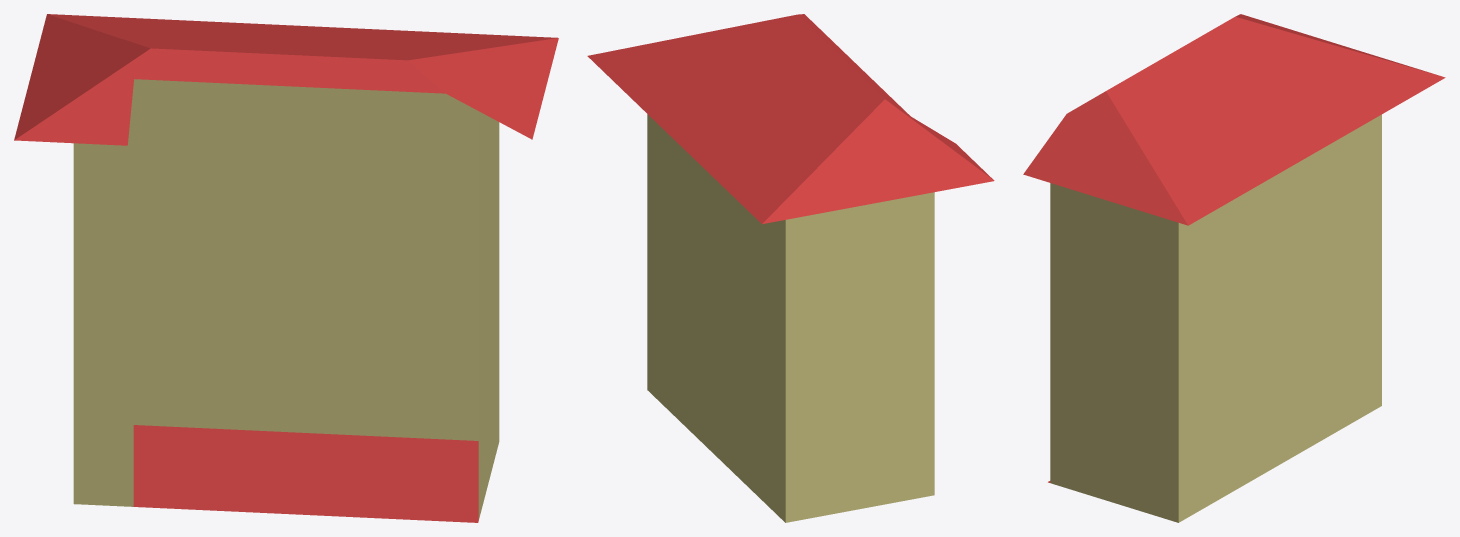
The picture shows the model from 3 angles, left to right: view 1: azimuth 30°, elevation 25°; view 2: azimuth 150°, elevation 25°; view 3: azimuth 270°, elevation 25°; orthographic projection. The views are drawn at different scales.
Parts seen in each view (by area): view 1: group_5, group_3, group_6, group_4; view 2: group_5, group_3; view 3: group_5, group_3, group_4.
Boxes of the visible parts, x1=… form: group_5: x1=73, y1=79, x2=499, y2=520; group_3: x1=14, y1=14, x2=558, y2=145; group_6: x1=133, y1=425, x2=478, y2=522; group_4: x1=101, y1=38, x2=558, y2=134; group_5: x1=647, y1=114, x2=934, y2=522; group_3: x1=587, y1=14, x2=994, y2=224; group_5: x1=1050, y1=114, x2=1381, y2=522; group_3: x1=1023, y1=14, x2=1445, y2=225; group_4: x1=1024, y1=138, x2=1186, y2=224.
Size of the model in its own units: 8.22 by 6.94 by 6.82.
